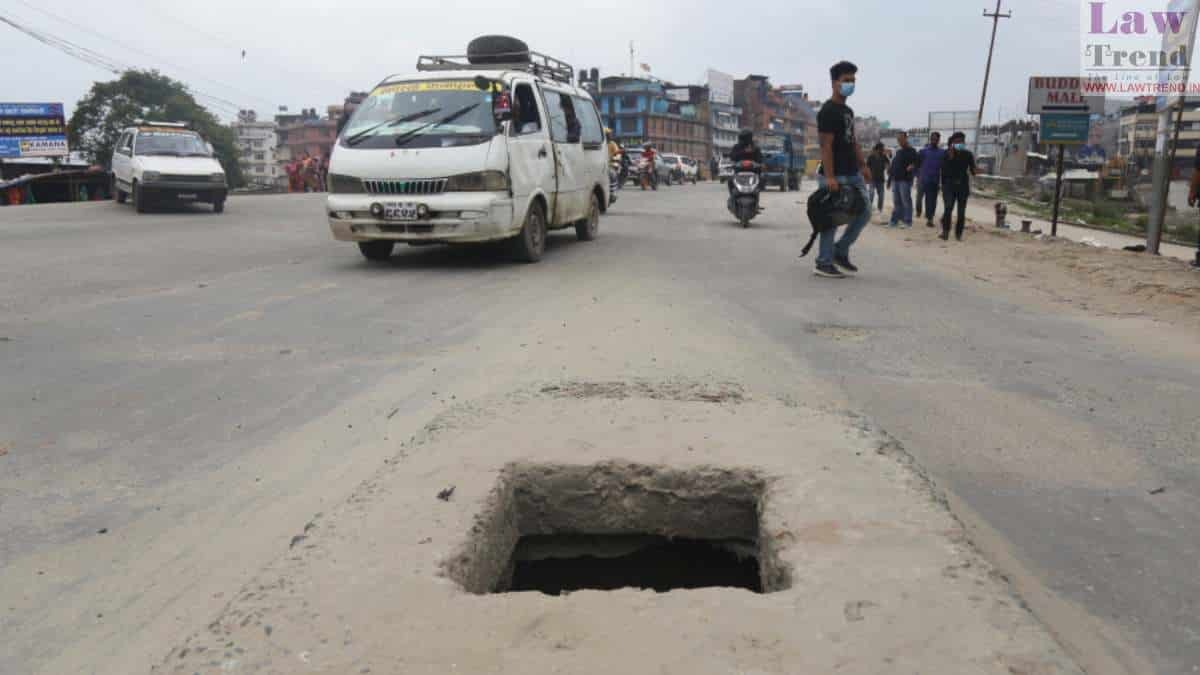open_manhole: (468, 428, 807, 622)
